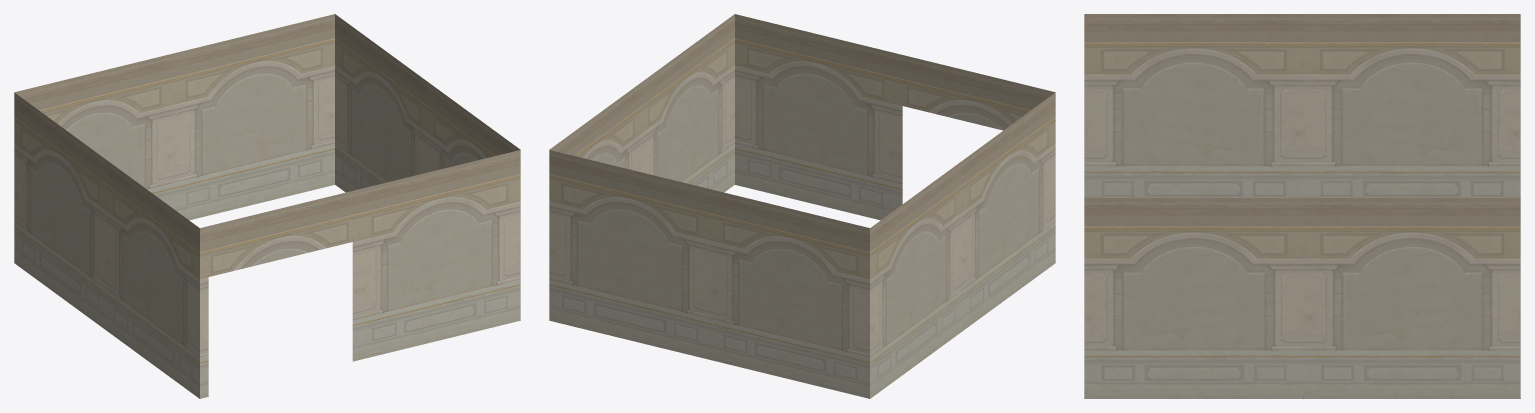
File: Homeworld_Interior_Fd_Room_I_Filling_01_Vo.fbx
3 renders of one model, left to right at view 1: azimuth 30°, elevation 25°; view 2: azimuth 150°, elevation 25°; view 3: azimuth 270°, elevation 25°, orthographic. The views are drawn at different scales.
Visible parts, largest first — view 1: Homeworld_Interior_Fd_Room_I_Filling_01_Vo; view 2: Homeworld_Interior_Fd_Room_I_Filling_01_Vo; view 3: Homeworld_Interior_Fd_Room_I_Filling_01_Vo.
Boxes of the visible parts, x1=… form: Homeworld_Interior_Fd_Room_I_Filling_01_Vo: x1=14, y1=14, x2=520, y2=398; Homeworld_Interior_Fd_Room_I_Filling_01_Vo: x1=549, y1=14, x2=1055, y2=398; Homeworld_Interior_Fd_Room_I_Filling_01_Vo: x1=1084, y1=14, x2=1520, y2=398.
Size of the model in its own units: 9.79 by 4.98 by 9.81.
